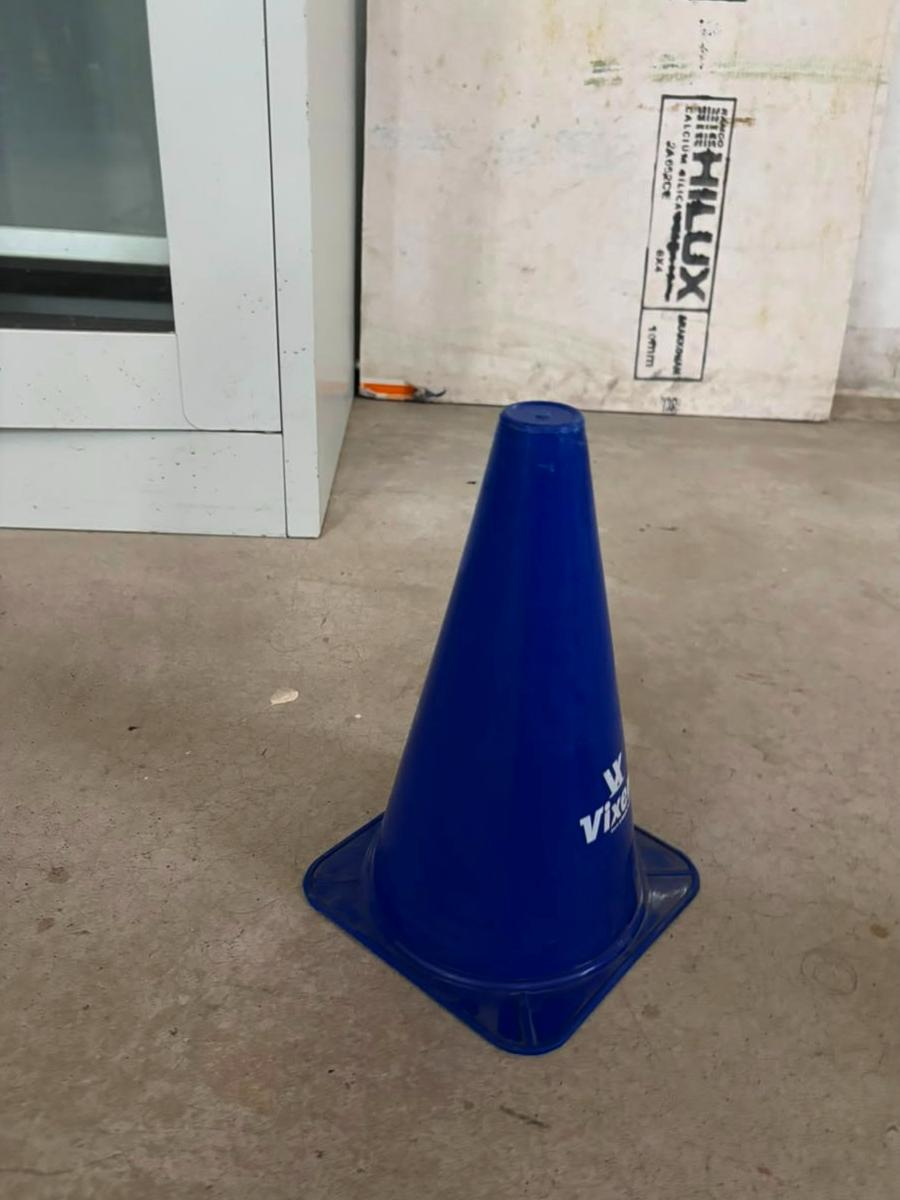0 cone: (303, 401, 698, 1055)
